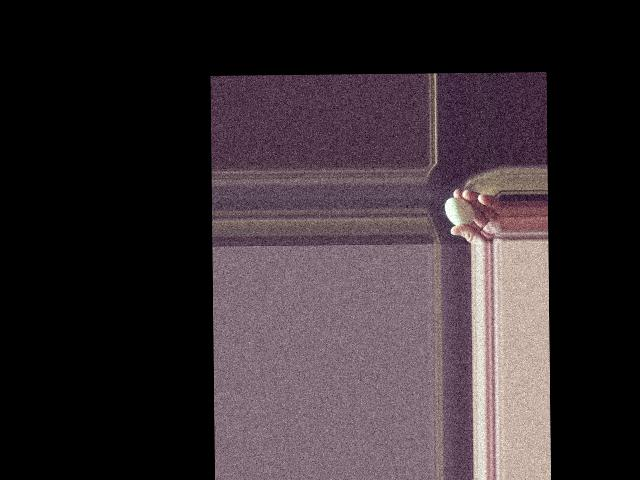egg: (445, 198, 474, 226)
